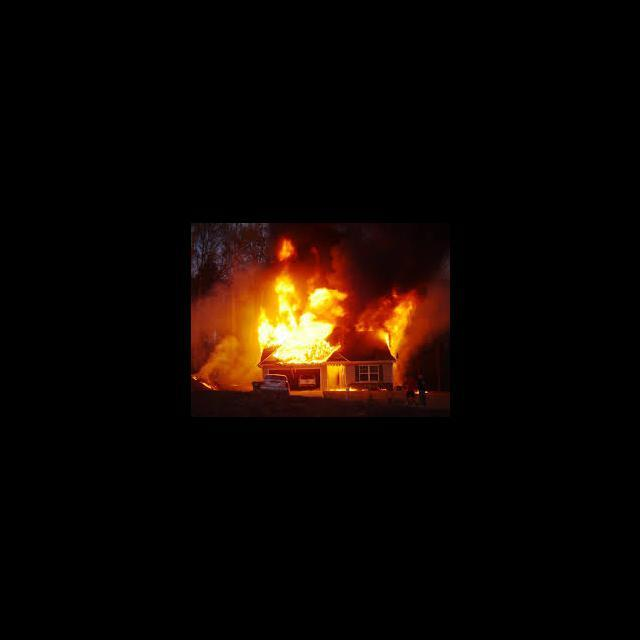Fire: (256, 278, 349, 362), (375, 286, 426, 358), (279, 235, 297, 260), (192, 374, 220, 390), (328, 384, 356, 392)
Smoke: (300, 224, 448, 276), (190, 266, 254, 372), (428, 278, 450, 342)
